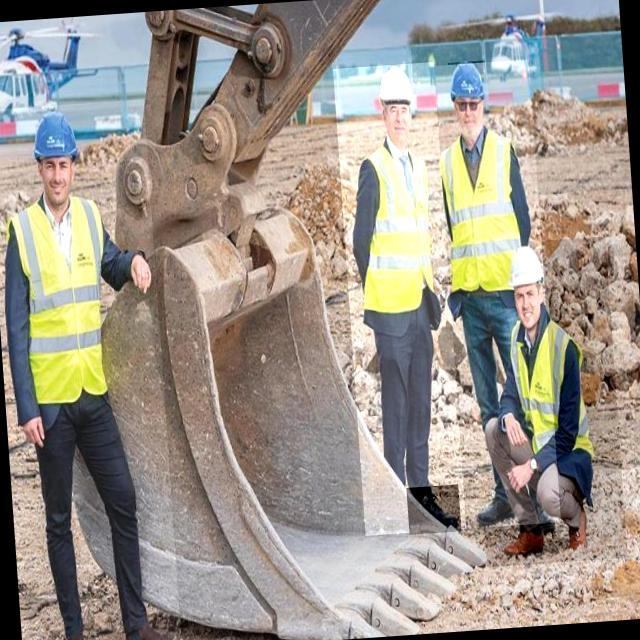Helmet: (26, 107, 76, 162), (447, 60, 487, 100), (507, 244, 544, 287), (377, 64, 415, 105)
Human: (0, 98, 181, 640), (333, 62, 466, 536), (431, 59, 561, 529), (464, 236, 627, 567)
Safety Boot: (406, 484, 461, 536), (501, 524, 546, 558), (476, 497, 517, 527), (566, 506, 591, 551), (124, 623, 177, 640), (57, 623, 96, 640)
Safety Vest: (4, 192, 116, 406), (353, 143, 438, 314), (438, 128, 524, 295), (508, 315, 597, 465)
